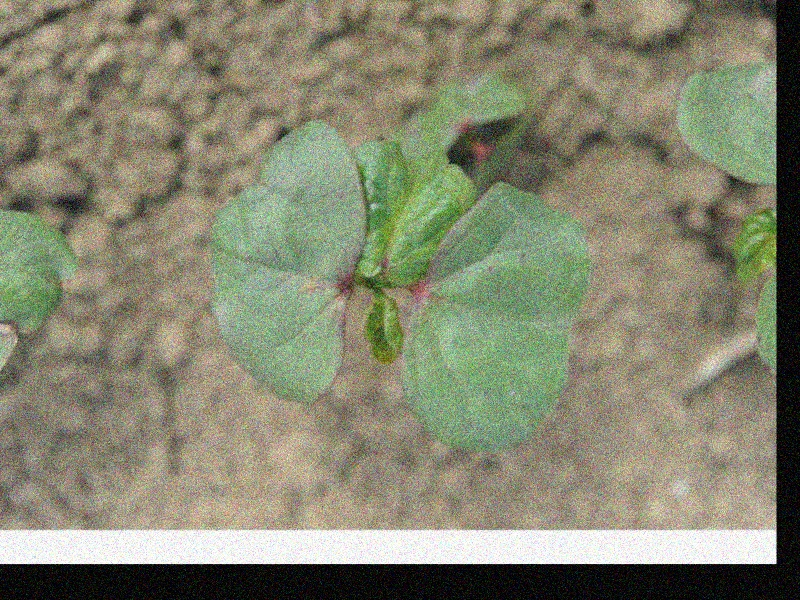cotton: (209, 116, 591, 454)
